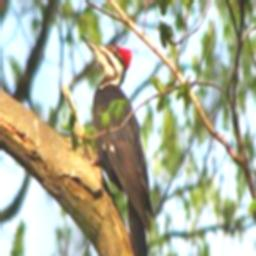Woodpecker: (76, 29, 157, 256)
